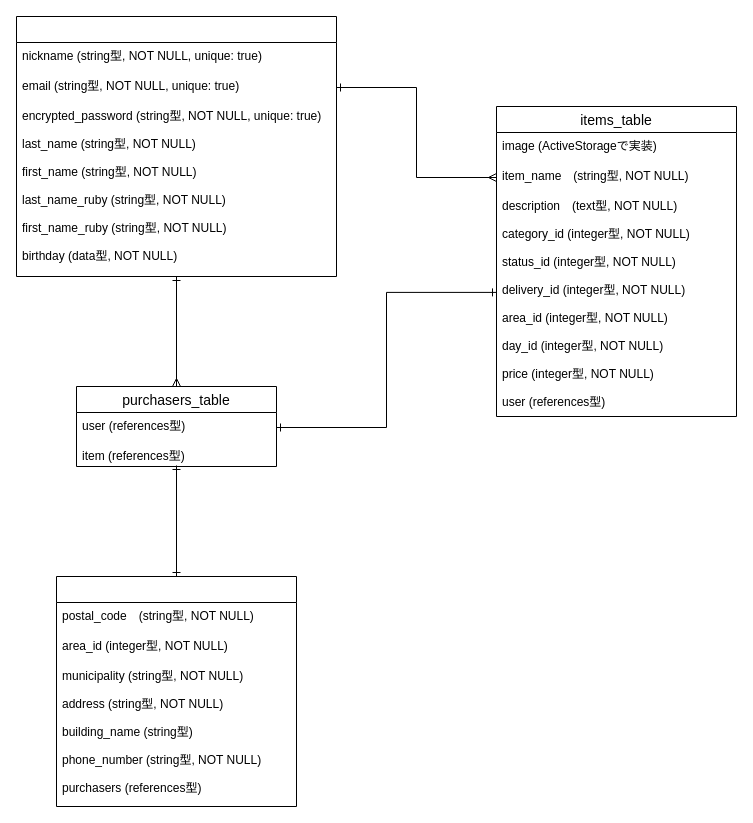
Image size: 753x823. Some labels were removed from this diagram. The shapes that lost their labels are listed below. From the top down, each one's box as (x1, y1, x2, y2) in pixels, then its label:
(16, 16, 336, 276): users_table
(56, 576, 296, 806): deliverys_table
